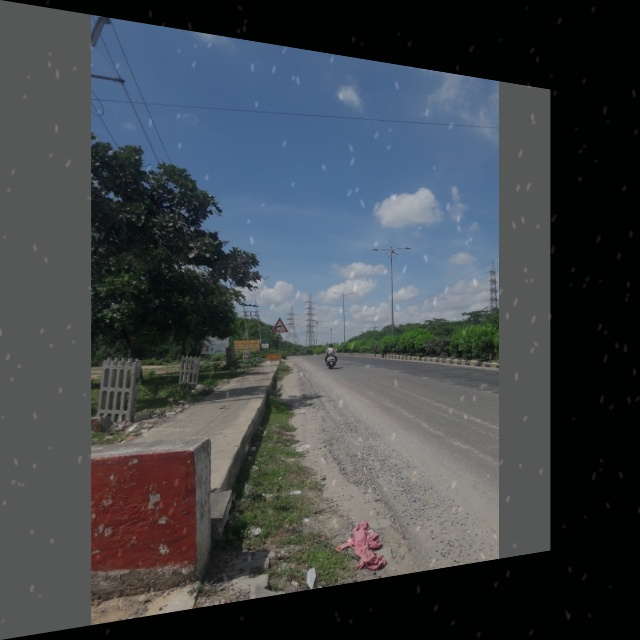Right_Hand_Curve: (271, 318, 286, 332)
